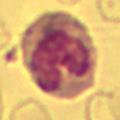monocyte: (14, 10, 102, 100)
